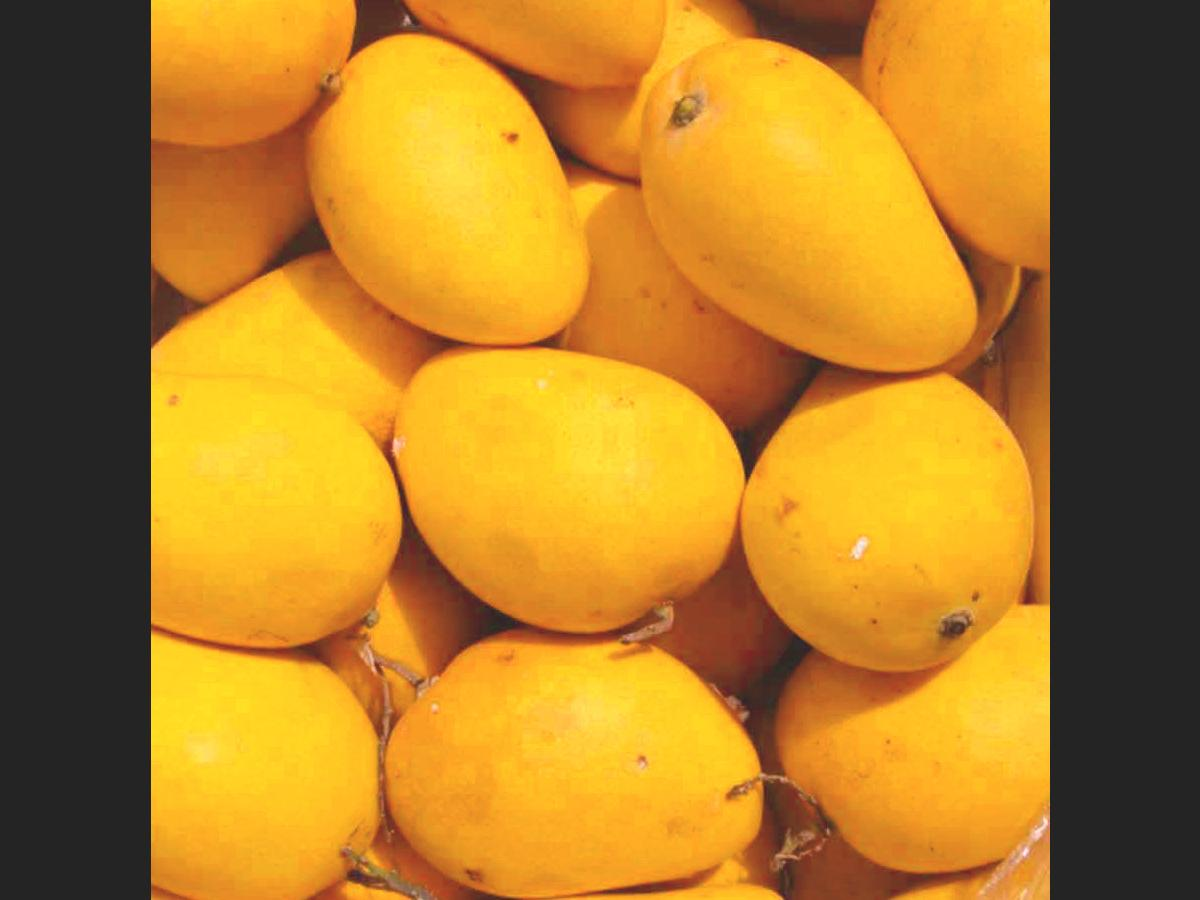xoai: (642, 33, 974, 374), (386, 336, 749, 637), (386, 634, 770, 900), (302, 26, 590, 347)
